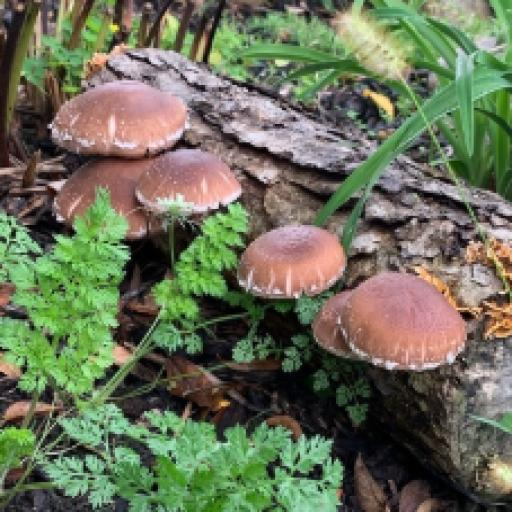Shiitake Mushroom: (46, 75, 247, 246), (317, 258, 481, 386), (229, 228, 350, 290)
